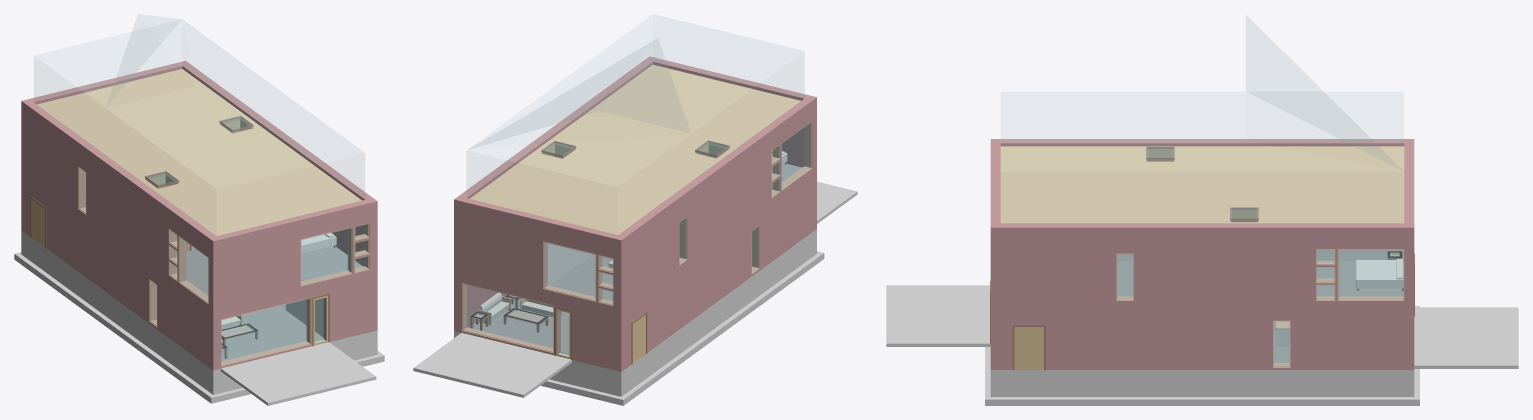
3 renders of one model, left to right at view 1: azimuth 30°, elevation 25°; view 2: azimuth 150°, elevation 25°; view 3: azimuth 270°, elevation 25°, orthographic. The views are drawn at different scales.
Parts seen in each view (by area): view 1: 0jf0rYHfX3RAB3bSQRjmxl, 0pNy6pOyf7JPmXRLgxs3sW, 2O2Fr$t4X7Zf8NOew3FNhv, 2O2Fr$t4X7Zf8NOew3FLPP, 2O2Fr$t4X7Zf8NOew3FLOH, 1CZILmCaHETO8tf3SgGEXu, 2O2Fr$t4X7Zf8NOew3FNr2, 2O2Fr$t4X7Zf8NOew3FKE5, 0jf0rYHfX3RAB3bSIRjmr1, 2OBrcmyk58NupXoVOHUtxr, 0jf0rYHfX3RAB3bSIRjmoa, 0jf0rYHfX3RAB3bSIRjmpw (+18 smaller); view 2: 0jf0rYHfX3RAB3bSQRjmxl, 0pNy6pOyf7JPmXRLgxs3sW, 2O2Fr$t4X7Zf8NOew3FNhv, 2O2Fr$t4X7Zf8NOew3FLPP, 2O2Fr$t4X7Zf8NOew3FLQD, 2O2Fr$t4X7Zf8NOew3FNtn, 1CZILmCaHETO8tf3SgGEWh, 2O2Fr$t4X7Zf8NOew3FKE5, 0jf0rYHfX3RAB3bSIRjmr1, 0jf0rYHfX3RAB3bSIRjmmy, 0kF45Qs8L9PAM9kmb1lT5t, 0jf0rYHfX3RAB3bSIRjmpw (+18 smaller); view 3: 0jf0rYHfX3RAB3bSQRjmxl, 2O2Fr$t4X7Zf8NOew3FNqI, 0pNy6pOyf7JPmXRLgxs3sW, 2O2Fr$t4X7Zf8NOew3FLR9, 2O2Fr$t4X7Zf8NOew3FK9N, 0jf0rYHfX3RAB3bSIRjmpw, 1CZILmCaHETO8tf3SgGEWh, 1CZILmCaHETO8tf3SgGEXu, 0kF45Qs8L9PAM9kmb1lT5d, 0jf0rYHfX3RAB3bSIRjmr1, 2OBrcmyk58NupXoVOHUtDX, 1hOSvn6df7F8_7GcBWlRGQ (+7 smaller).
Part boxes in pixels (box(x1,y1,x2,y2)): 0jf0rYHfX3RAB3bSQRjmxl: box(37, 69, 361, 235); 0pNy6pOyf7JPmXRLgxs3sW: box(34, 14, 364, 198); 2O2Fr$t4X7Zf8NOew3FNhv: box(26, 173, 208, 366); 2O2Fr$t4X7Zf8NOew3FLPP: box(21, 113, 213, 309); 2O2Fr$t4X7Zf8NOew3FLOH: box(213, 213, 377, 309); 1CZILmCaHETO8tf3SgGEXu: box(220, 342, 376, 405); 2O2Fr$t4X7Zf8NOew3FNr2: box(208, 272, 369, 370); 2O2Fr$t4X7Zf8NOew3FKE5: box(26, 233, 208, 391); 0jf0rYHfX3RAB3bSIRjmr1: box(26, 102, 216, 249); 2OBrcmyk58NupXoVOHUtxr: box(221, 304, 323, 361); 0jf0rYHfX3RAB3bSIRjmoa: box(208, 200, 369, 253); 0jf0rYHfX3RAB3bSIRjmpw: box(182, 64, 377, 214); 0jf0rYHfX3RAB3bSQRjmxl: box(470, 64, 800, 234); 0pNy6pOyf7JPmXRLgxs3sW: box(467, 14, 803, 196); 2O2Fr$t4X7Zf8NOew3FNhv: box(626, 171, 812, 368); 2O2Fr$t4X7Zf8NOew3FLPP: box(621, 109, 816, 309); 2O2Fr$t4X7Zf8NOew3FLQD: box(454, 211, 621, 309); 2O2Fr$t4X7Zf8NOew3FNtn: box(454, 269, 625, 371); 1CZILmCaHETO8tf3SgGEWh: box(413, 333, 571, 397); 2O2Fr$t4X7Zf8NOew3FKE5: box(626, 232, 812, 393); 0jf0rYHfX3RAB3bSIRjmr1: box(618, 98, 812, 248); 0jf0rYHfX3RAB3bSIRjmmy: box(454, 196, 625, 252); 0kF45Qs8L9PAM9kmb1lT5t: box(606, 259, 814, 405); 0jf0rYHfX3RAB3bSIRjmpw: box(459, 56, 656, 198); 0jf0rYHfX3RAB3bSQRjmxl: box(1000, 146, 1404, 223); 2O2Fr$t4X7Zf8NOew3FNqI: box(990, 303, 1404, 369); 0pNy6pOyf7JPmXRLgxs3sW: box(1001, 15, 1403, 170); 2O2Fr$t4X7Zf8NOew3FLR9: box(990, 240, 1414, 303); 2O2Fr$t4X7Zf8NOew3FK9N: box(990, 370, 1404, 396); 0jf0rYHfX3RAB3bSIRjmpw: box(990, 223, 1404, 240); 1CZILmCaHETO8tf3SgGEWh: box(1414, 307, 1518, 368); 1CZILmCaHETO8tf3SgGEXu: box(886, 285, 990, 346); 0kF45Qs8L9PAM9kmb1lT5d: box(985, 390, 1419, 405); 0jf0rYHfX3RAB3bSIRjmr1: box(1000, 139, 1404, 146); 2OBrcmyk58NupXoVOHUtDX: box(1316, 261, 1403, 296); 1hOSvn6df7F8_7GcBWlRGQ: box(1012, 325, 1045, 370).
Bounding box in the file's own units: 9.28 × 14.96 × 26.57.
